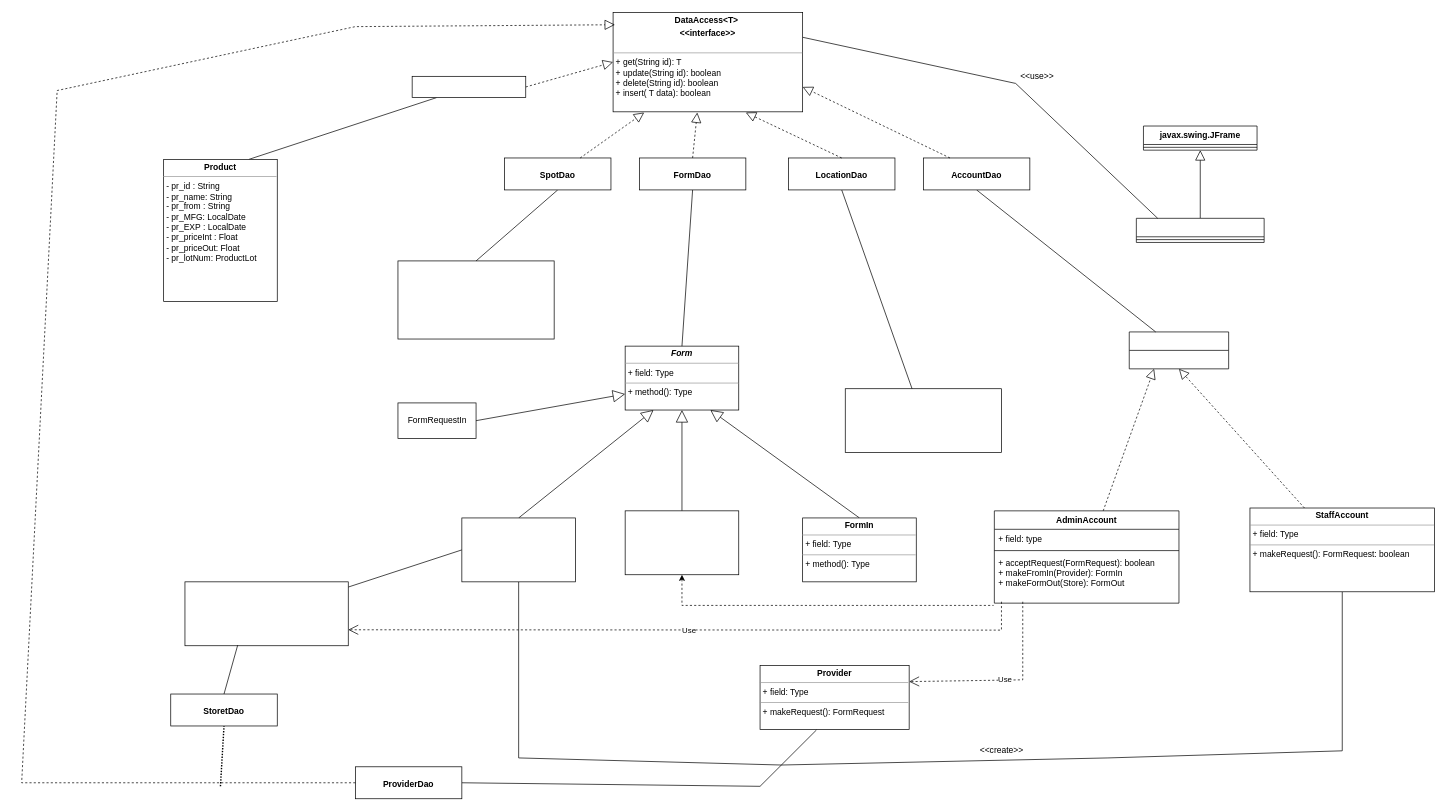
Some shapes in this 1447 by 812 pixel diagram are drawn without their labels. The shapes that lost their labels are listed below. From the top down, each one's centre as x and y in pixels, then its label:
point (468, 87): ProductDao
point (1200, 230): App
point (475, 299): Spot - sp_id: String - sp_volume: int + method(): Type
point (1179, 350): Account
point (923, 420): Location - lo_id: String - lo_name: String + method(): Type
point (518, 549): FormRequest + fr_status: Boolean + method(): Type
point (681, 542): FormOut + field: Type + method(): Type
point (266, 613): Store + field: Type + makeRequest(): FormRequest
